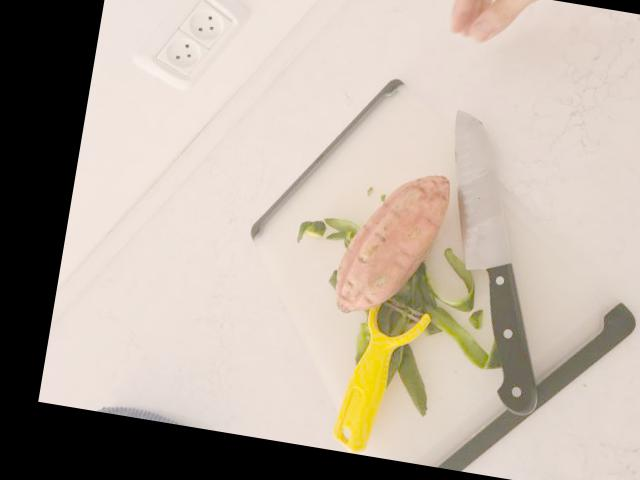sweet_potato: (331, 163, 454, 331)
